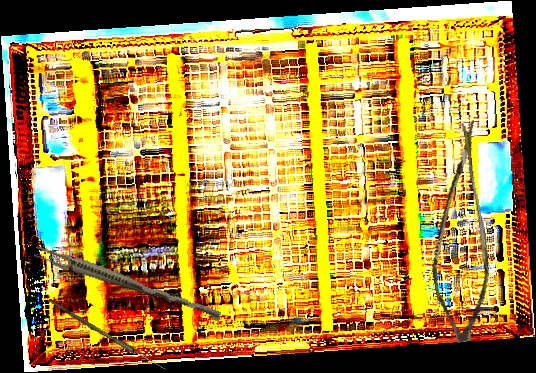Micro Scissor: (407, 119, 512, 346)
Surgical Spoon: (46, 298, 168, 372)
Tissue Forceps: (32, 244, 224, 322)
